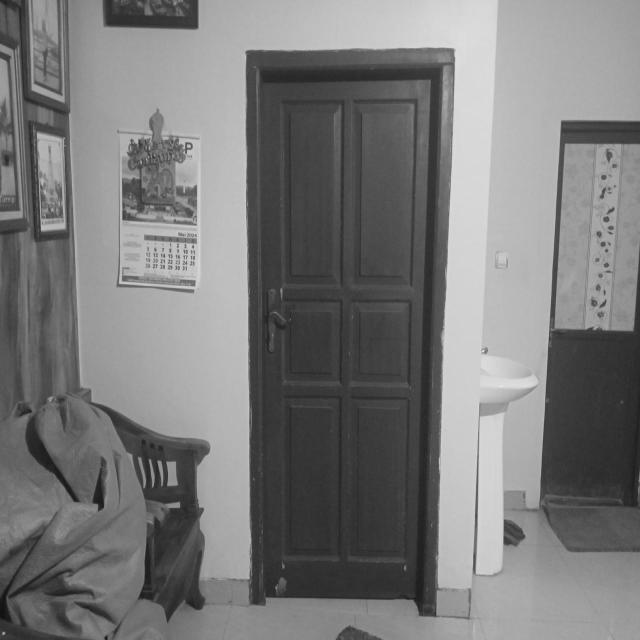door: (246, 50, 455, 603)
